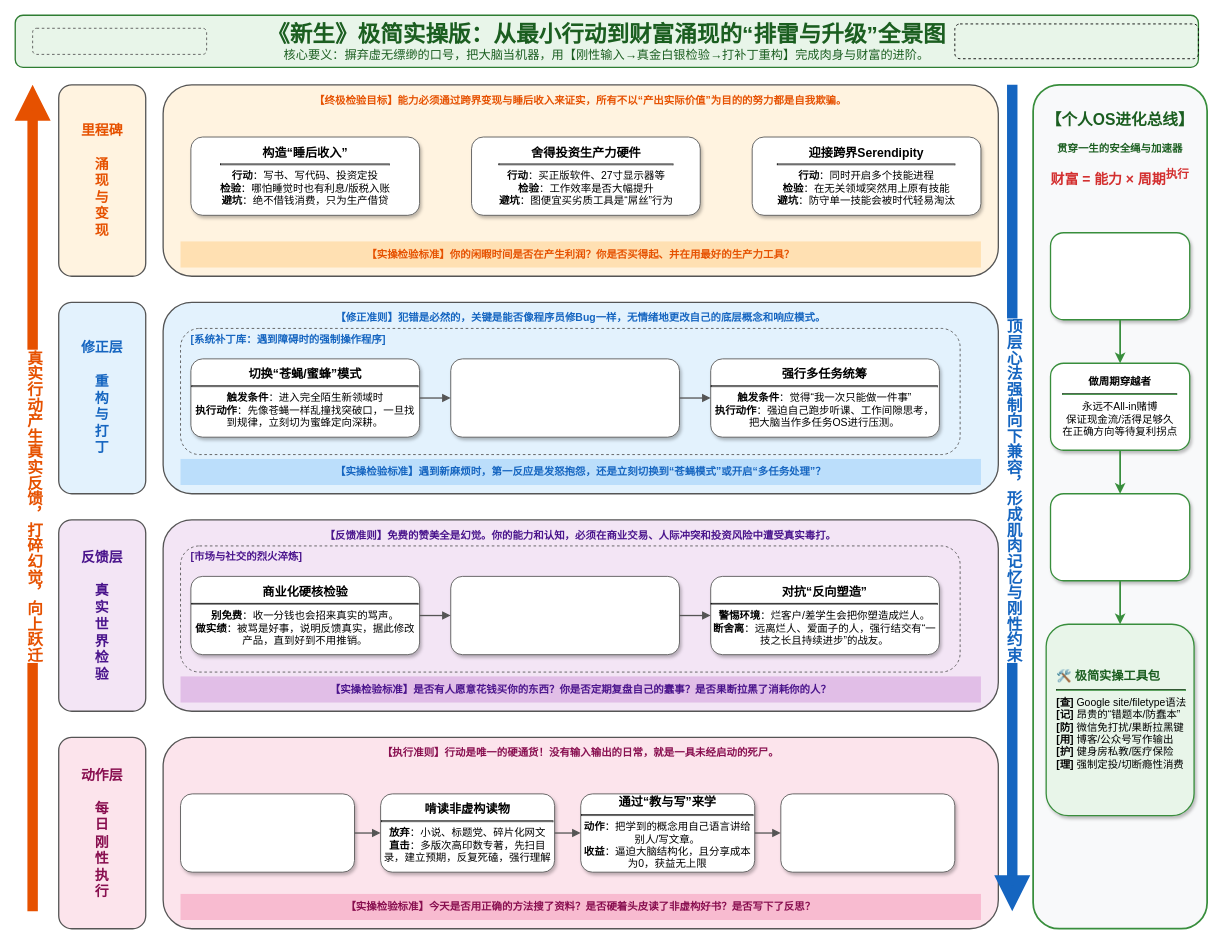
This 1223x945 diagram has some shape labels left out. Here are the shapes that lost their labels. From the top down, the centre of each, then its label:
point 119,40: #行动清单 #容错反馈 #实战变现
point 1076,41: 参考：1.《新生：七年就是一辈子》行动提炼 参考：2. 投资理财、学习方法的具体实操细节
point 1120,277: 保持进取型人格 不为“别人眼光”要面子 只为“明天的自己更强” 接受当下的笨拙与弱小
point 565,399: 剔除“毒性概念” 触发条件 ：说出“我没天分/基因”时 执行动作 ：强制替换为“我只是练习不够/没找到正确方法”，拉长周期继续做。
point 1120,538: 建立资本护城河 锻炼身体(硬件升级) 尽早强制储蓄与投资 远离消费借贷陷阱
point 565,616: 记录“愚蠢账本” 直面黑历史 ：用昂贵的本子记下犯过的蠢事。 排毒效应 ：形成参照系，再产生自欺欺人想法时，大脑会自动拦截过滤。
point 268,834: 溯源式硬核检索 只用 ：Google/NCR 必用 ：英文关键字、加减号、引号精确匹配 戒除 ：“连不上网怎么办”的巨婴提问
point 868,834: 直接切断无用耗损 坚决 ：不争辩，遇傻逼直接拉黑 坚决 ：群聊设为免打扰 核心 ：把省下的生命时间用来打磨自己的手艺
